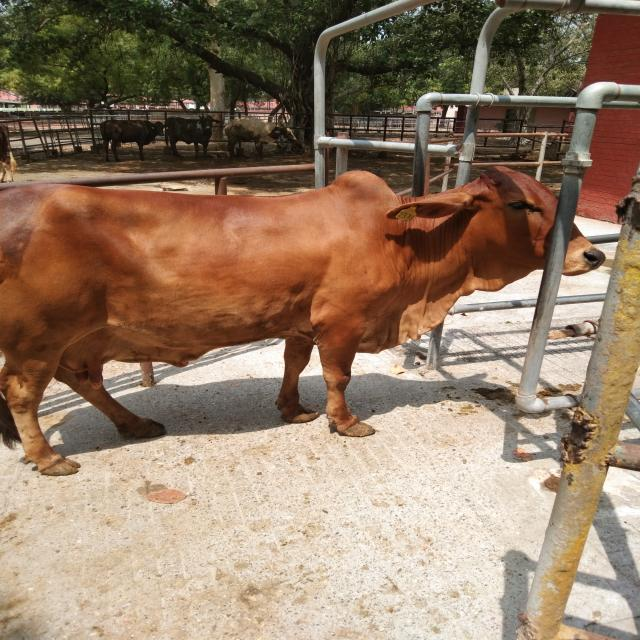1: (327, 168, 389, 188)
Hoof: (128, 418, 166, 439), (39, 458, 80, 476), (336, 421, 375, 437), (280, 407, 319, 423)
